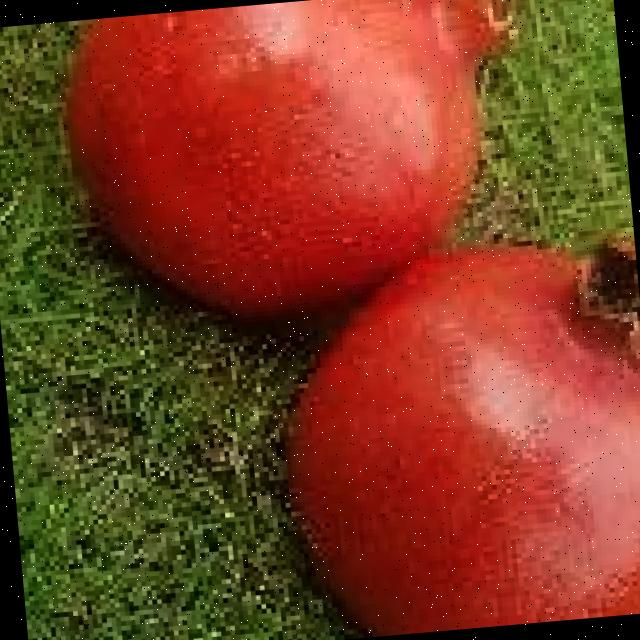Good_Pomegranate 50-60-days: (48, 0, 640, 640)
